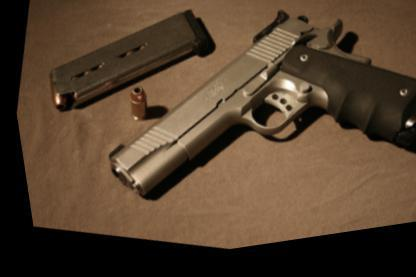pistol: (71, 0, 415, 267)
